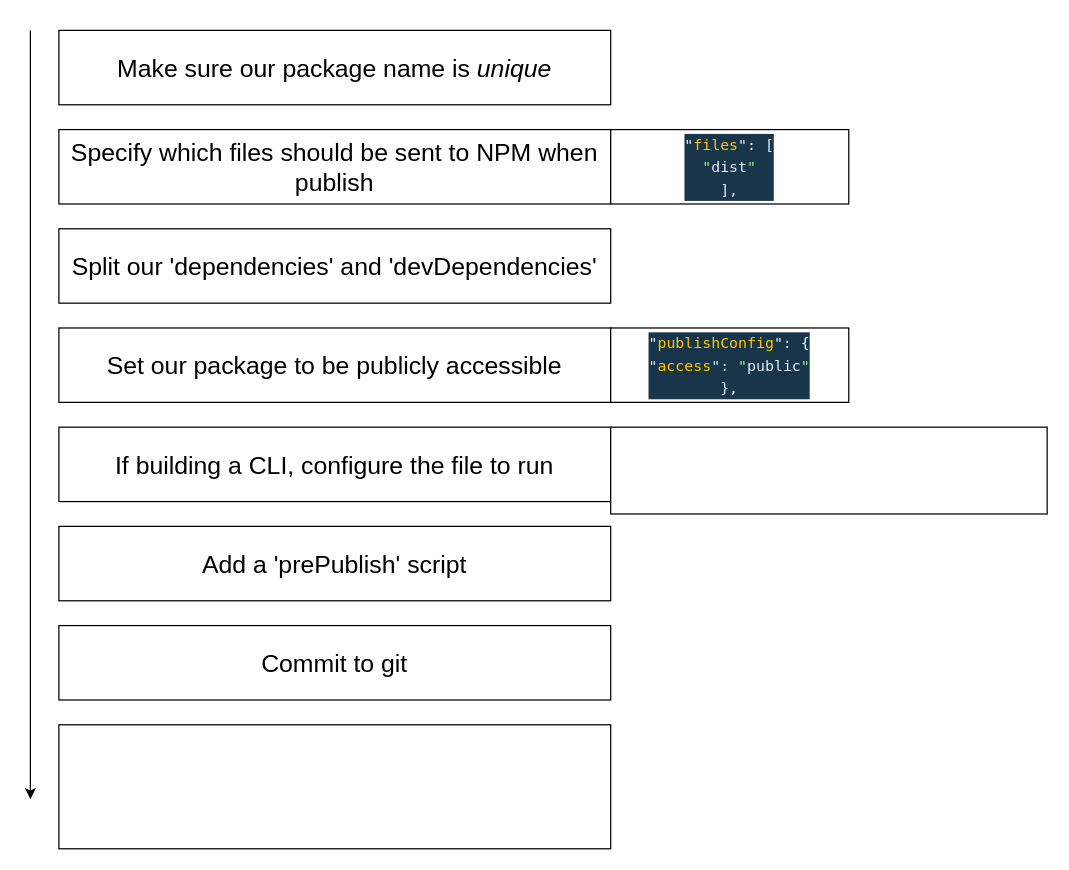
Image size: 1069x870. Some labels were removed from this diagram. The shapes that lost their labels are listed below. From the top down, each one's centre as x and y in pixels, then its label:
pixel 828 470: " bin " : " dist/index.js " , #!/usr/bin/env node in the index.ts file
pixel 334 786: Run 'npm publish' or 'yarn npm publish' or 'lerna publish --no-push'
